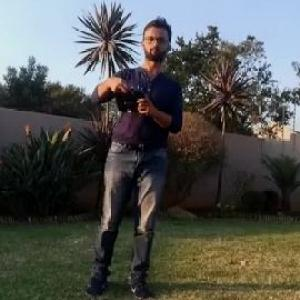follow: (79, 8, 190, 299)
